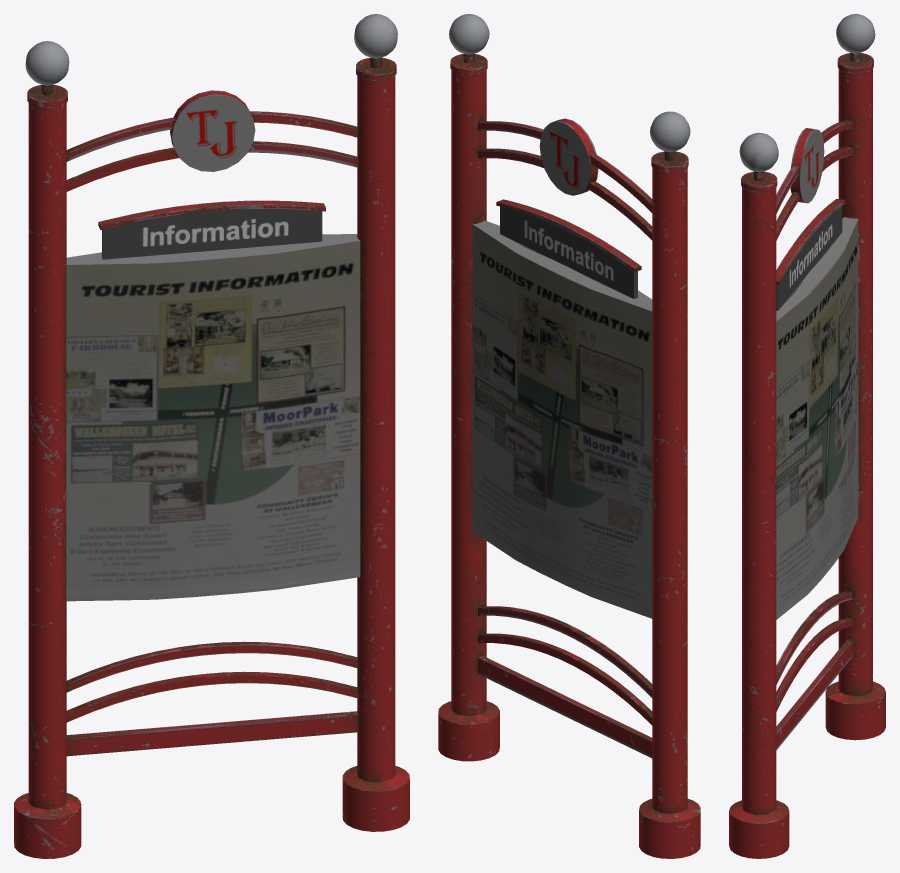
The model's file is information.glb.
The picture shows the model from 3 angles, left to right: view 1: azimuth 30°, elevation 25°; view 2: azimuth 150°, elevation 25°; view 3: azimuth 270°, elevation 25°; orthographic projection. The views are drawn at different scales.
Parts seen in each view (by area): view 1: information; view 2: information; view 3: information.
Part boxes in pixels (x1,y1,x2,y2): information: (14, 14, 409, 858); information: (438, 14, 700, 858); information: (729, 14, 885, 858).
Size of the model in its own units: 1.12 by 2.58 by 0.5141.
1 material, 1 textured.
